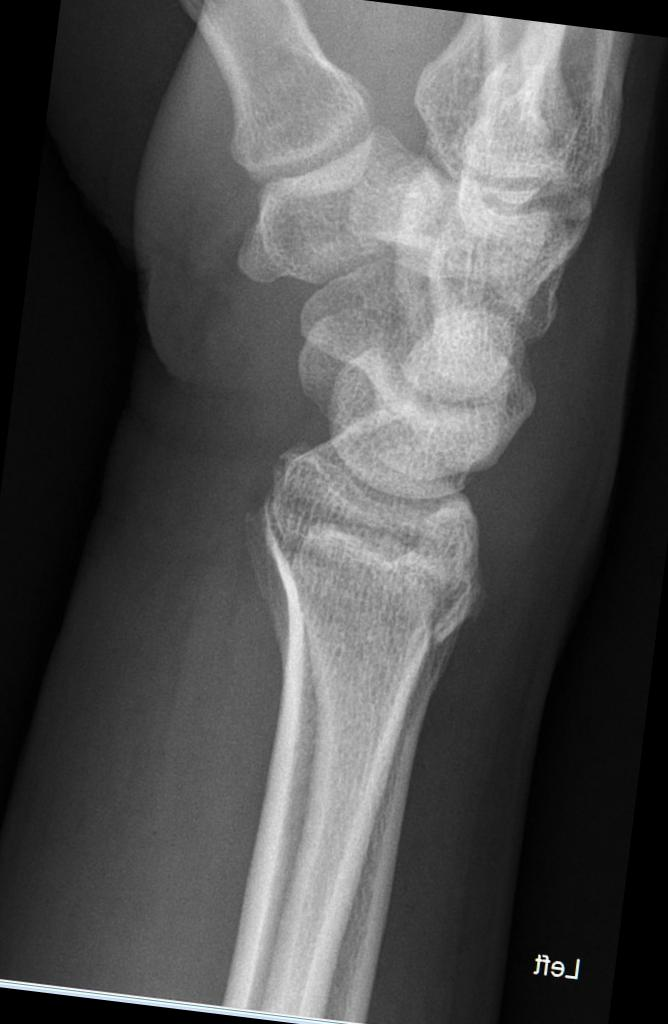line: (424, 576, 469, 650)
